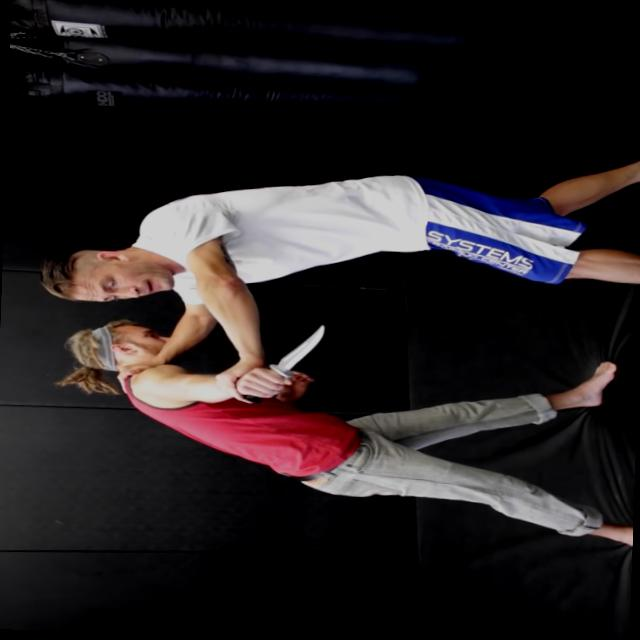knife: (232, 316, 338, 407)
